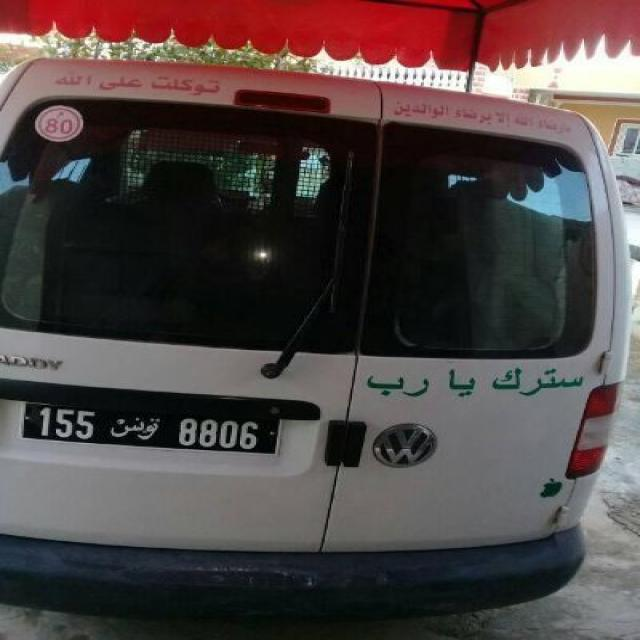LP: (18, 396, 280, 455)
